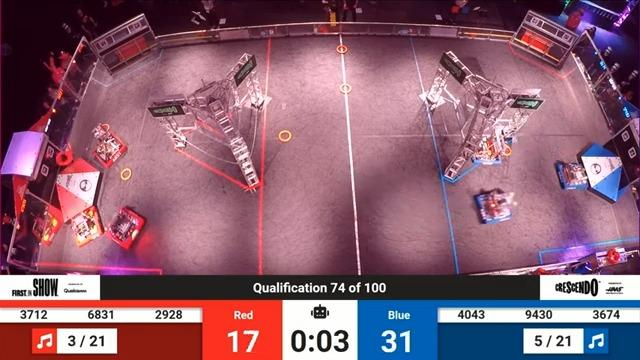robot: (99, 202, 150, 252), (469, 186, 513, 234), (462, 129, 510, 173), (87, 122, 127, 167), (66, 202, 101, 252), (551, 159, 593, 193)
